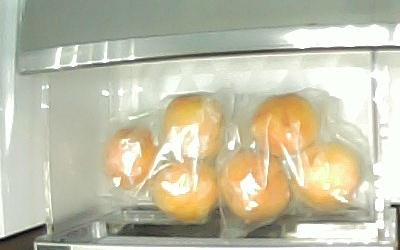peach_vinyl: (291, 143, 362, 212), (218, 150, 289, 218), (151, 159, 218, 223), (249, 95, 316, 155), (163, 95, 223, 159), (102, 127, 157, 188)
